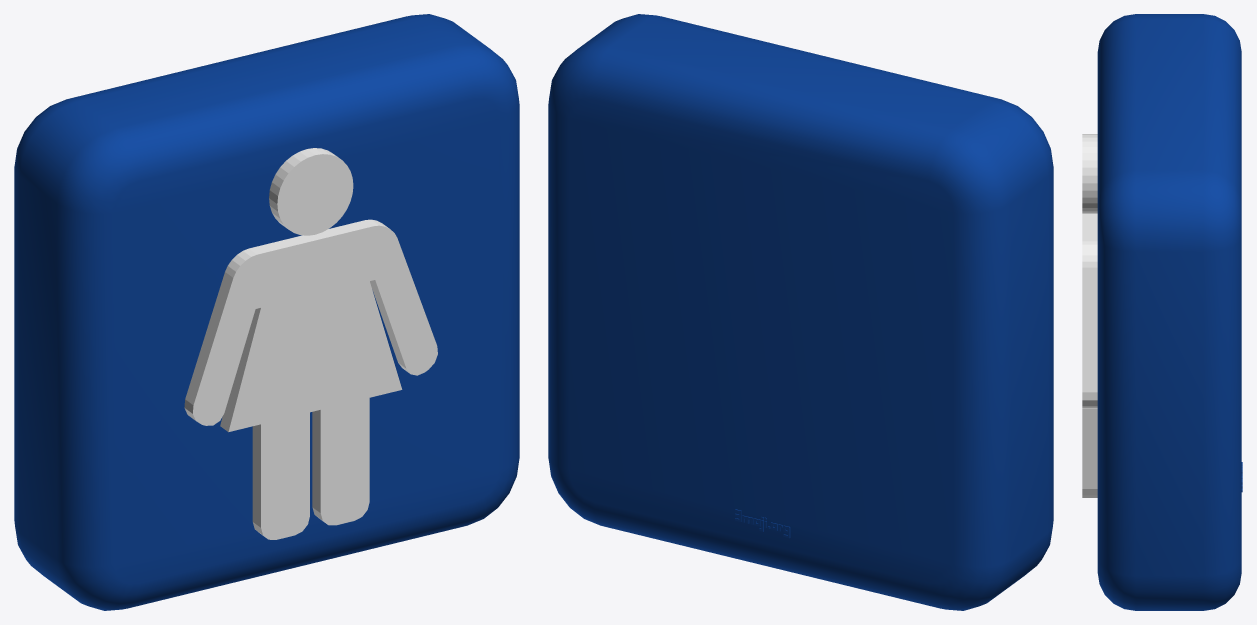
The model's file is womens_room.fbx.
The picture shows the model from 3 angles, left to right: view 1: azimuth 30°, elevation 25°; view 2: azimuth 150°, elevation 25°; view 3: azimuth 270°, elevation 25°; orthographic projection. The views are drawn at different scales.
Visible parts, largest first — view 1: Cube.132; view 2: Cube.132; view 3: Cube.132.
Boxes of the visible parts, left/top/right/bottom form: Cube.132: left=14, top=14, right=519, bottom=610; Cube.132: left=548, top=14, right=1053, bottom=610; Cube.132: left=1082, top=14, right=1242, bottom=610.
Bounding box in the file's own units: 220 × 220 × 73.36.
Materials: 1 (1 with a texture image).
